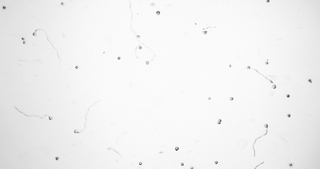germinated: (42, 113, 53, 121), (268, 79, 276, 89), (263, 122, 270, 133), (72, 128, 83, 134), (32, 27, 40, 35), (202, 26, 209, 34), (145, 58, 153, 64), (135, 43, 142, 49)
nongerminated: (154, 8, 162, 16), (72, 64, 80, 72), (58, 0, 65, 8), (0, 4, 7, 11), (307, 76, 313, 83), (228, 95, 235, 101), (284, 92, 291, 98), (213, 159, 220, 165), (137, 160, 144, 166), (54, 155, 61, 161), (285, 112, 291, 118), (227, 63, 233, 69), (206, 95, 212, 101), (174, 145, 180, 151), (287, 162, 294, 167), (264, 59, 269, 65), (217, 117, 223, 122), (179, 161, 185, 166), (116, 55, 122, 60), (216, 121, 221, 126), (21, 40, 26, 45), (20, 36, 25, 40)
